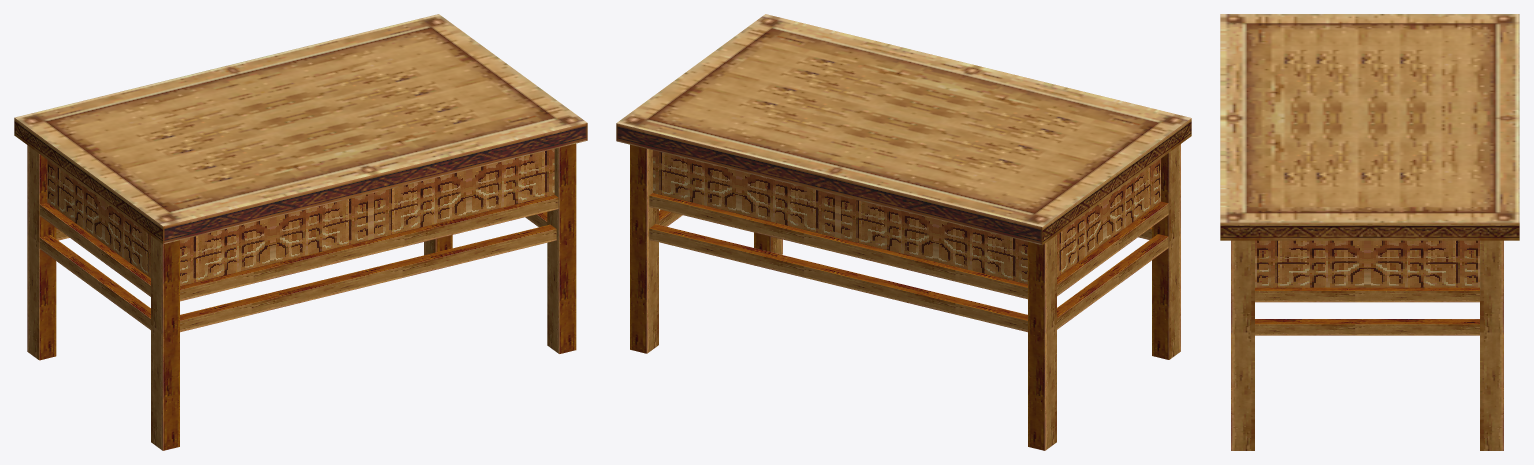
The model's file is SwordSpirit_Room_desk.FBX.
3 renders of one model, left to right at view 1: azimuth 30°, elevation 25°; view 2: azimuth 150°, elevation 25°; view 3: azimuth 270°, elevation 25°, orthographic.
Parts seen in each view (by area): view 1: Object014; view 2: Object014; view 3: Object014.
Part boxes in pixels (x1,y1,x2,y2): Object014: (14, 14, 587, 450); Object014: (616, 14, 1191, 450); Object014: (1220, 14, 1519, 450).
Size of the model in its own units: 89.47 by 46.28 by 54.28.
Materials: 2 (2 with a texture image).
